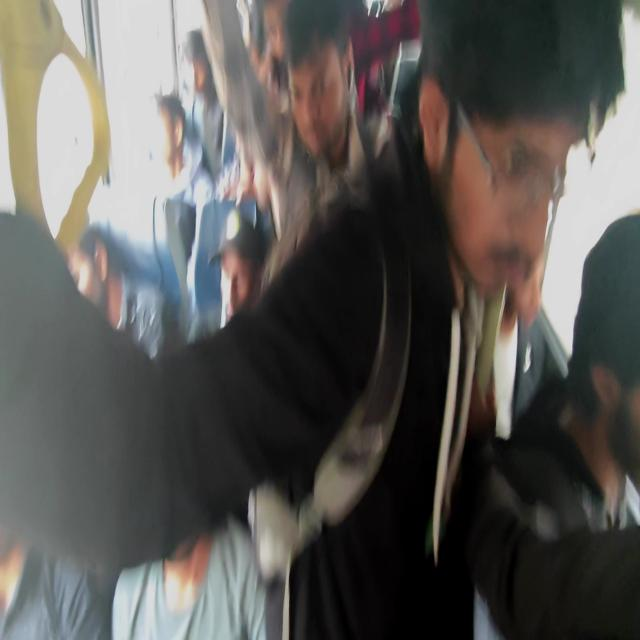person: (437, 23, 572, 276), (0, 424, 67, 618), (149, 366, 211, 574), (579, 234, 640, 434), (291, 23, 363, 150), (217, 202, 256, 324), (62, 216, 108, 313), (264, 8, 305, 104), (157, 102, 192, 186), (179, 41, 216, 113)
